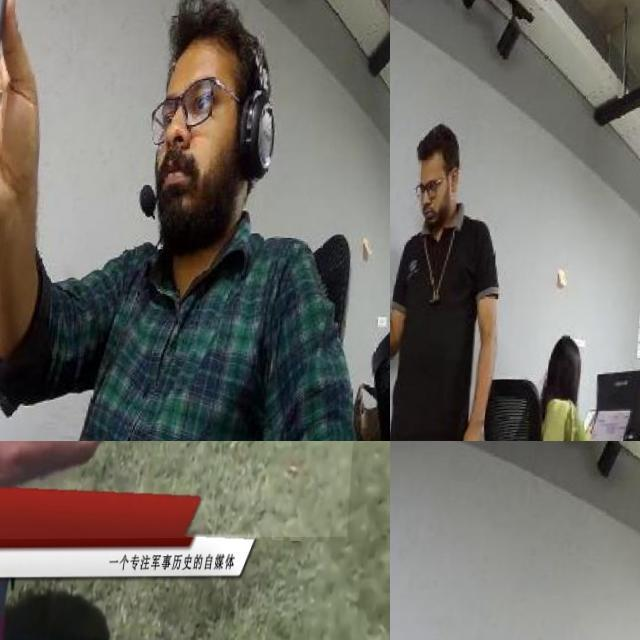-: (0, 89, 45, 441), (390, 281, 404, 361)
gun-knife-thesis - v11 Yolov5 augmented: (0, 441, 376, 640)
